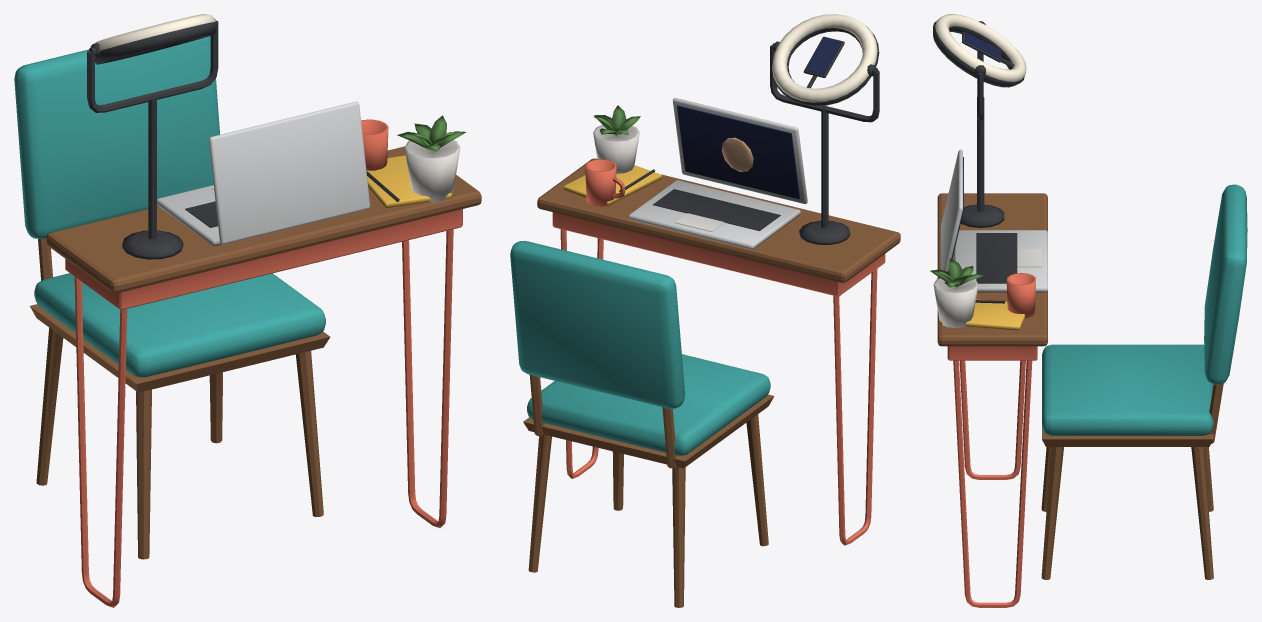
Rendered from videoCallNook.glb.
The picture shows the model from 3 angles, left to right: view 1: azimuth 30°, elevation 25°; view 2: azimuth 150°, elevation 25°; view 3: azimuth 270°, elevation 25°; orthographic projection. The views are drawn at different scales.
Visible parts, largest first — view 1: body, ring; view 2: body, ring; view 3: body, ring.
Boxes of the visible parts, x1=… form: body: x1=14, y1=20, x2=481, y2=607; ring: x1=89, y1=14, x2=217, y2=64; body: x1=510, y1=45, x2=900, y2=607; ring: x1=771, y1=14, x2=879, y2=105; body: x1=930, y1=51, x2=1247, y2=607; ring: x1=933, y1=14, x2=1026, y2=87.
Bounding box in the file's own units: 0.84 × 1.28 × 0.7781.
